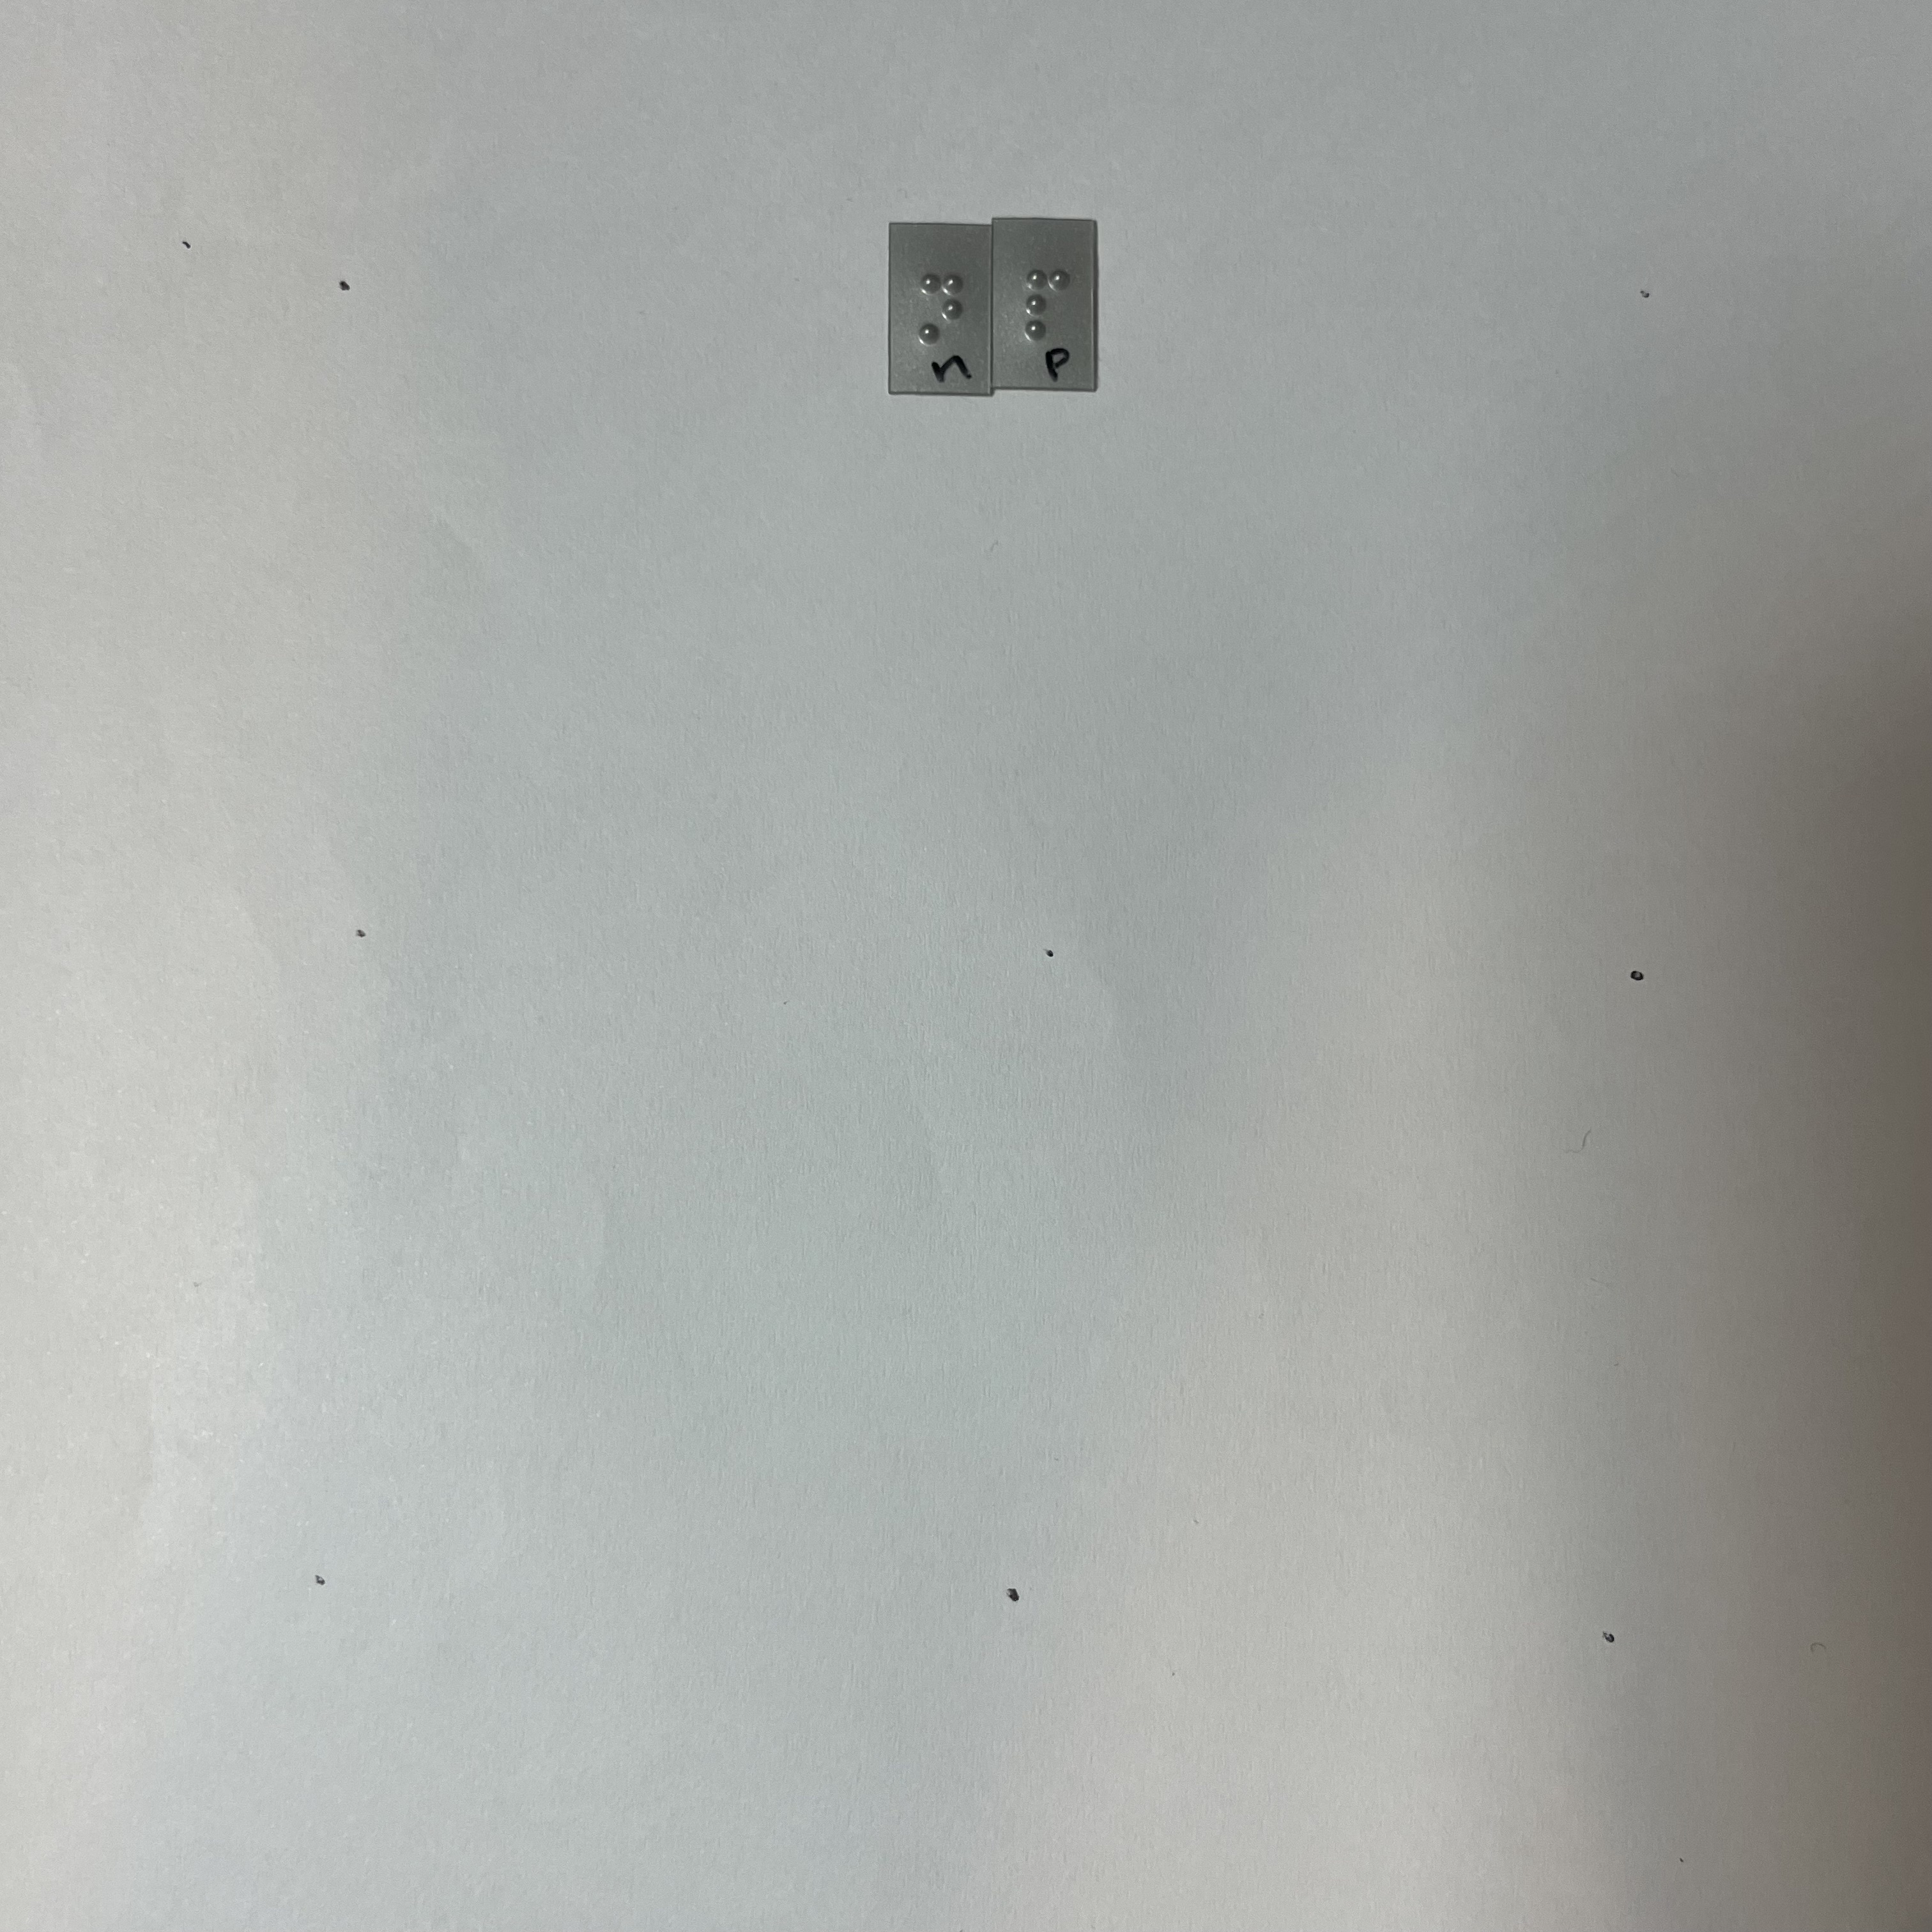n: (908, 260, 967, 344)
p: (1016, 260, 1075, 346)
